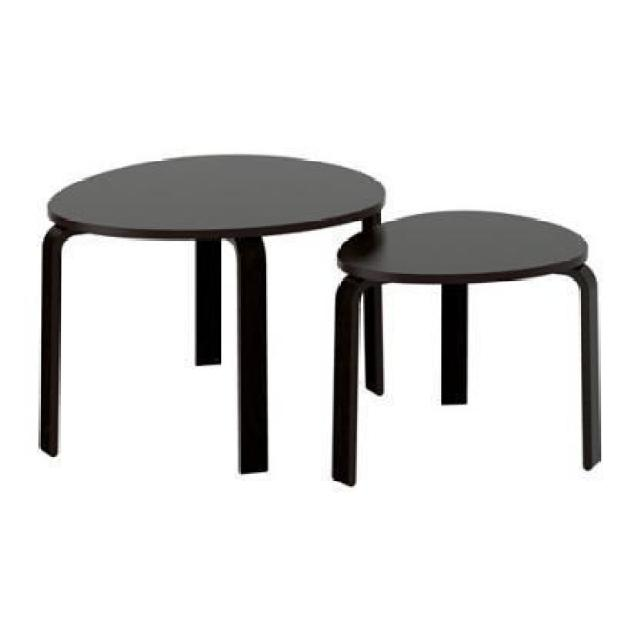tables: (37, 152, 386, 474)
